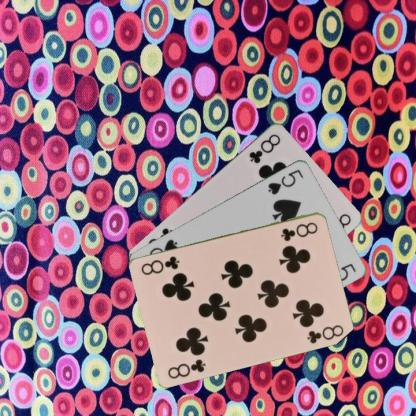5s: (265, 166, 305, 196)
8c: (246, 130, 282, 165), (166, 356, 208, 380), (278, 219, 319, 243)
